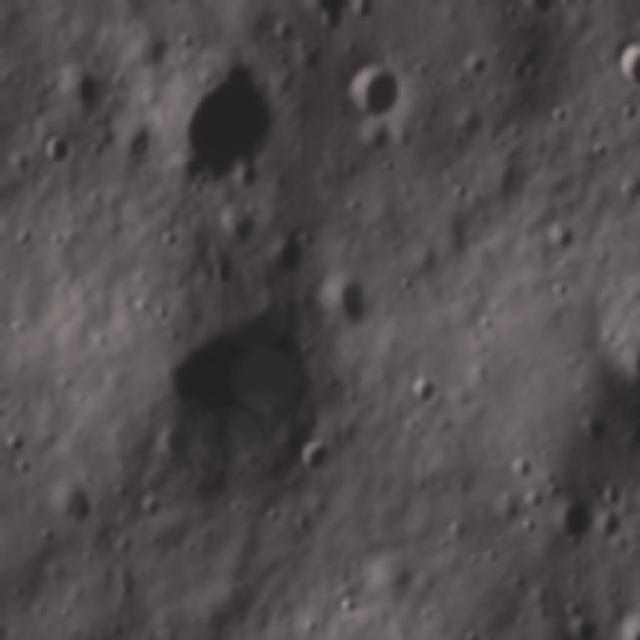crater: (143, 289, 335, 471), (158, 49, 288, 188), (587, 282, 640, 411), (339, 61, 408, 122), (145, 418, 204, 476), (285, 0, 363, 43), (332, 269, 376, 331), (65, 59, 110, 112), (402, 362, 447, 413), (554, 496, 594, 546), (297, 433, 337, 476), (609, 34, 640, 89), (37, 128, 74, 172), (615, 601, 639, 640), (334, 587, 364, 616), (513, 0, 561, 17), (4, 426, 30, 454)
